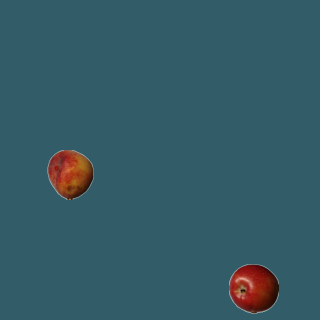Apple Braeburn: (228, 263, 278, 313)
Peach: (45, 149, 95, 199)
